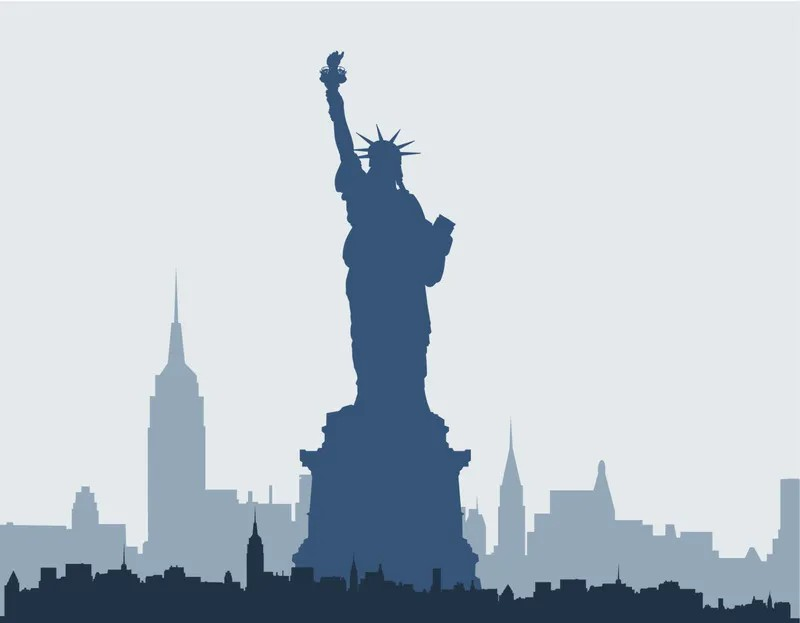SL: (292, 51, 481, 588)
